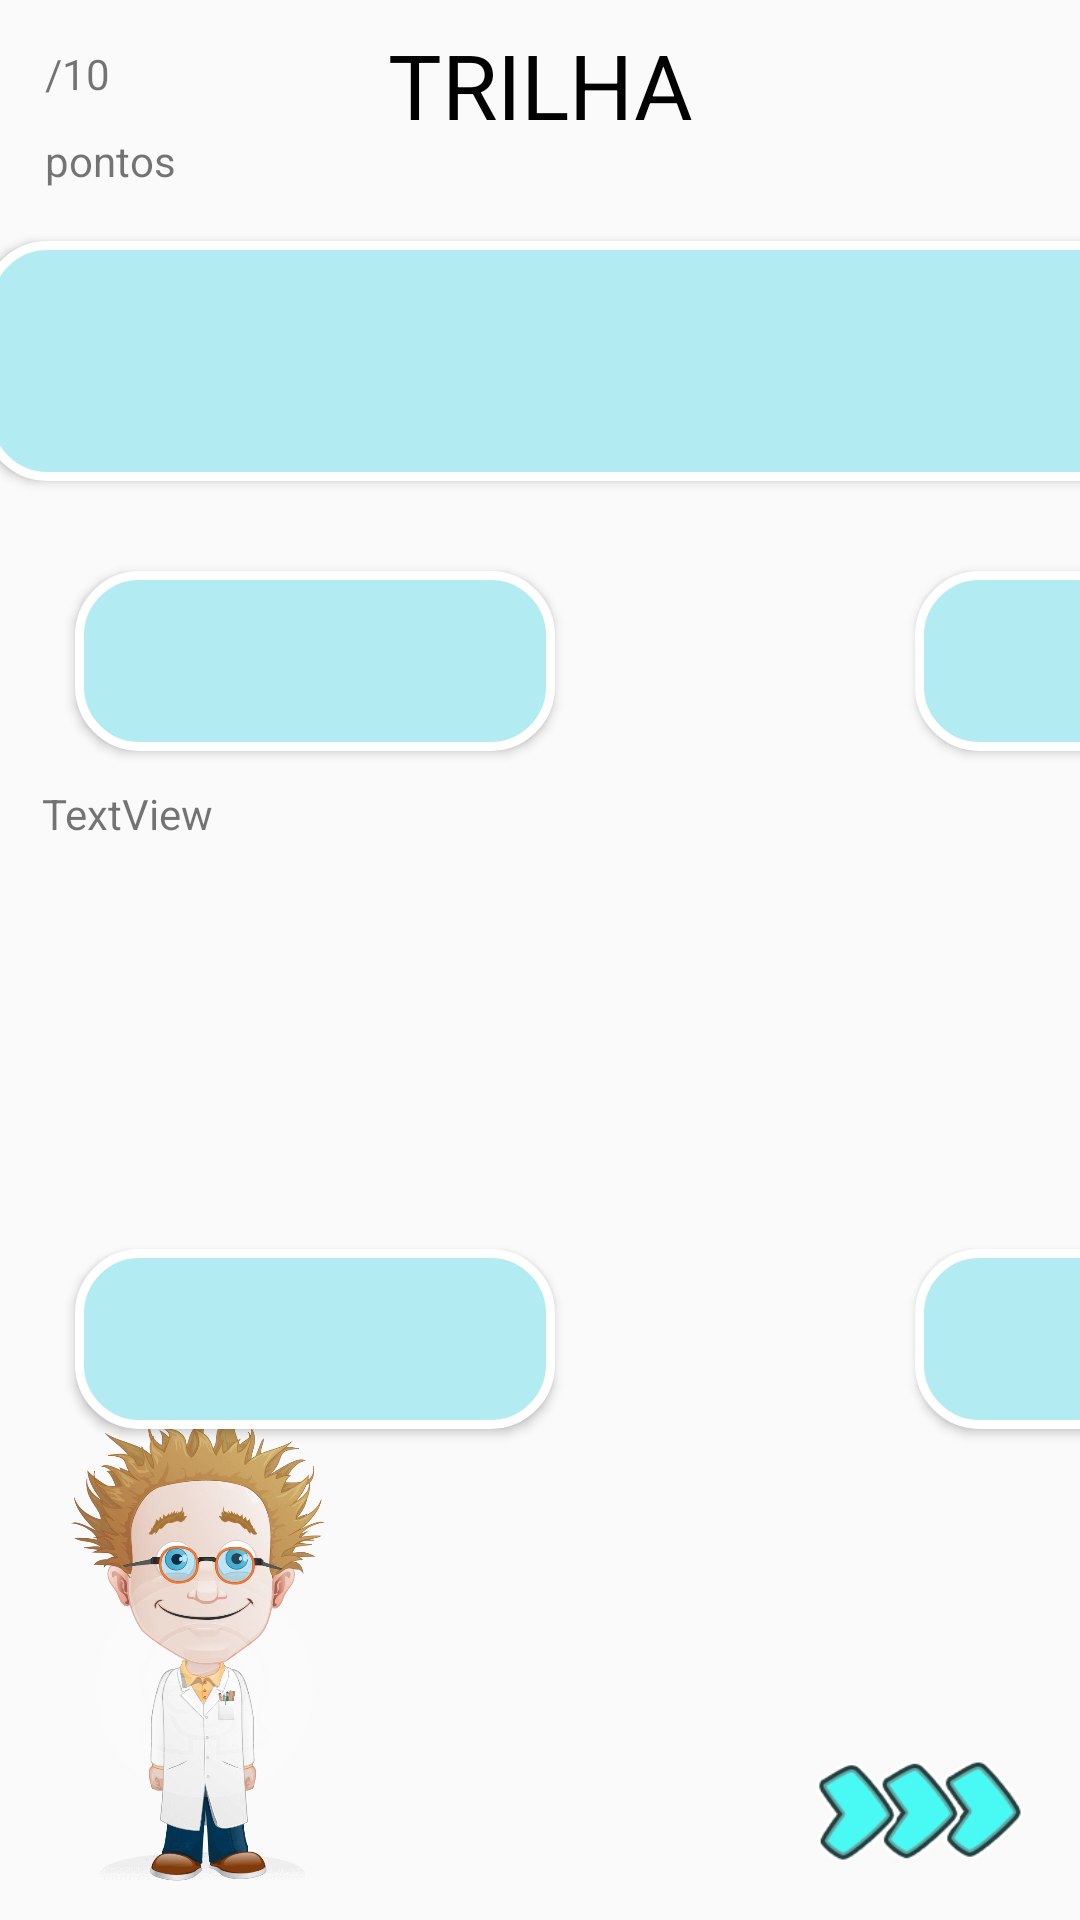

Icons on this 1080*1920 Android screen, each with the point to tap as (x=x, y=y):
setas coloridas: (x=920, y=1811)
